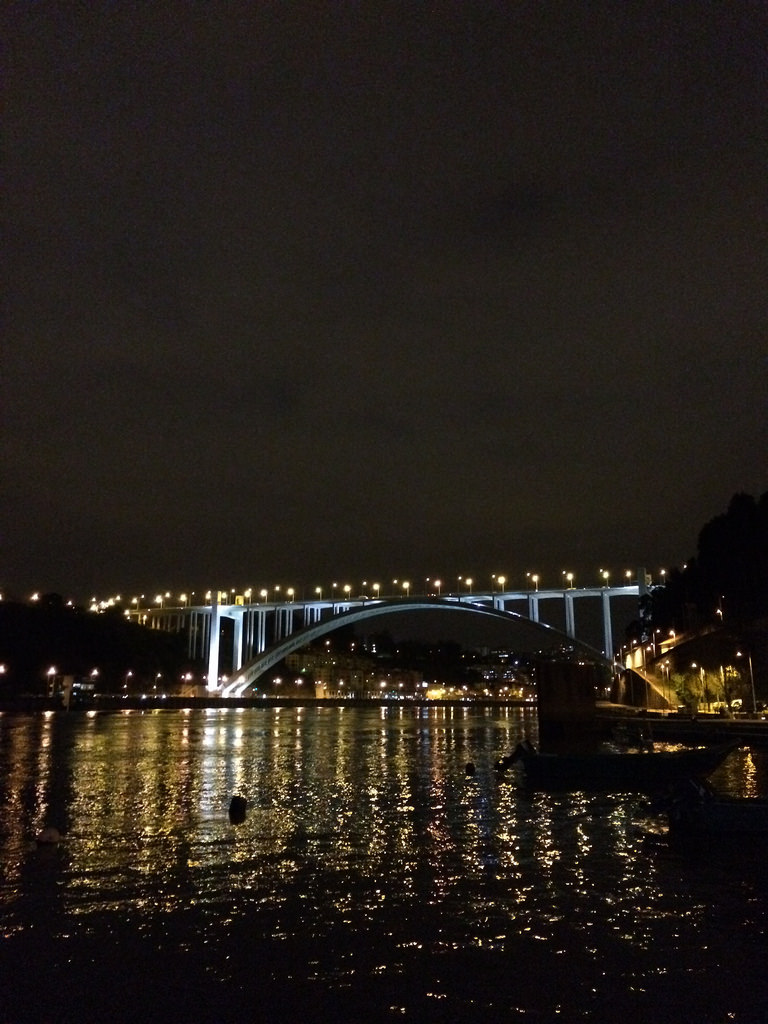arrabida: (121, 569, 665, 698)
